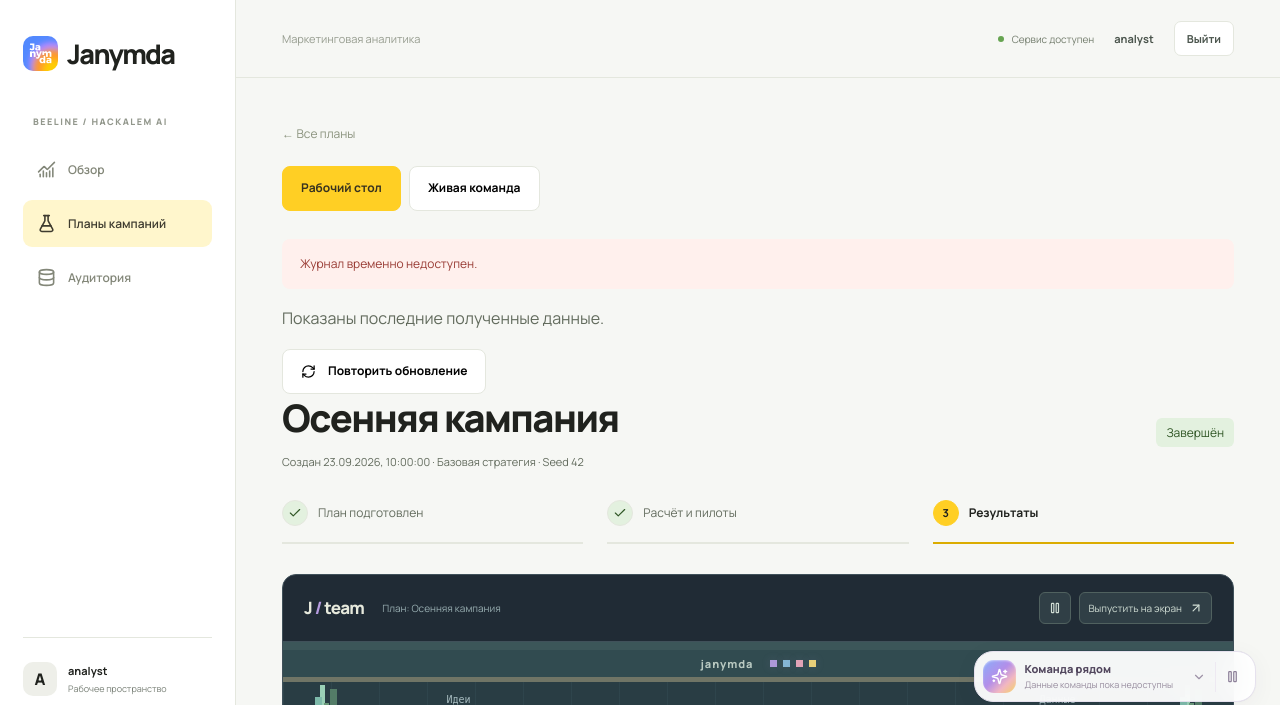
Scenario: пользовательский сценарий › дочитывает все страницы финального журнала и не теряет результаты при сбое журнала
Expected: the message "Журнал временно недоступен." is shown, left=282, top=239, right=1234, bottom=289
Click the button "Повторить обновление" at (384, 371), box left=282, top=349, right=486, bottom=394
(page scrolled)
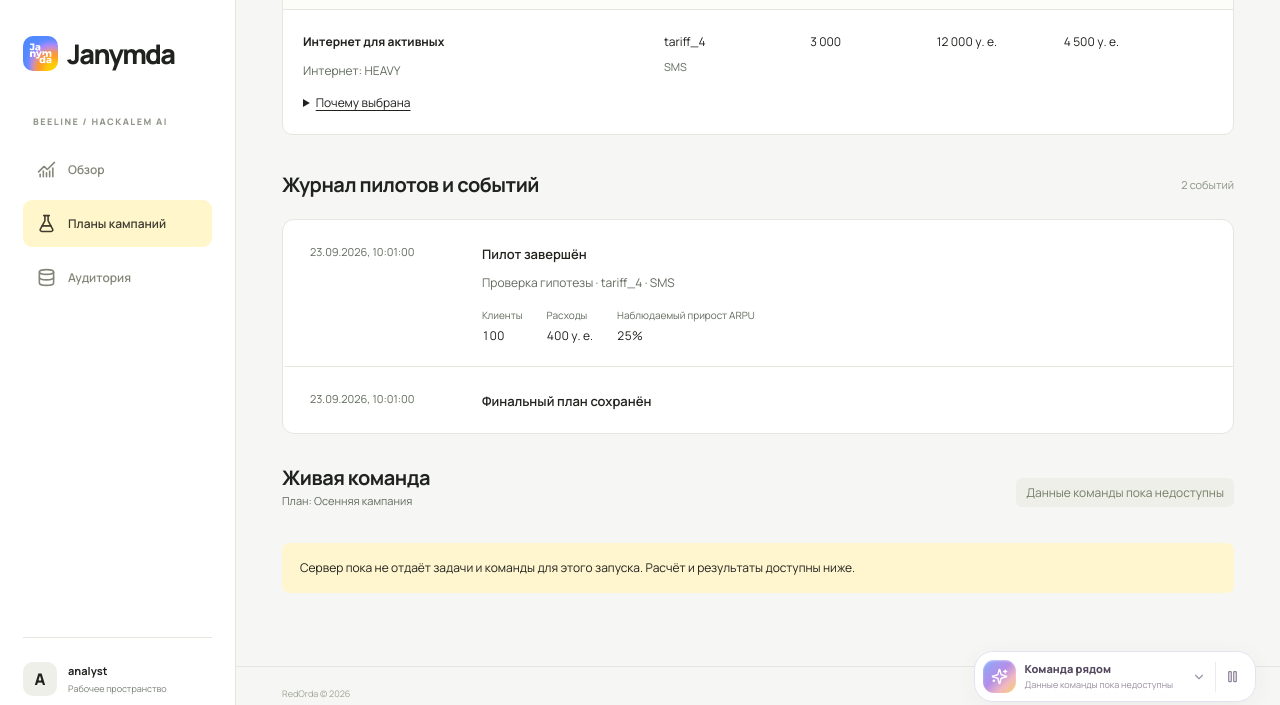
Expected: the text "Финальный план сохранён" is shown, left=482, top=392, right=651, bottom=410
Expected: the text "Пилот завершён" is shown once, left=482, top=245, right=587, bottom=263
